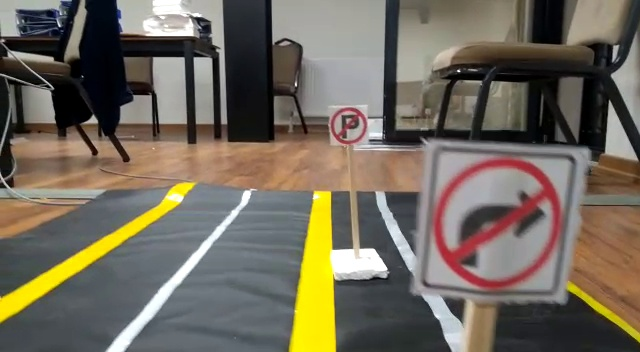park_yapilmaz: (329, 104, 368, 145)
saga_donulmez: (430, 149, 564, 298)
